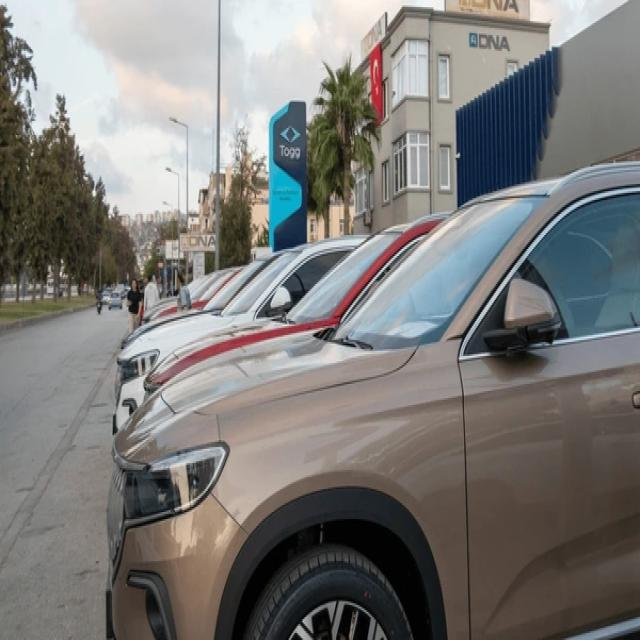togg: (278, 122, 303, 146)
